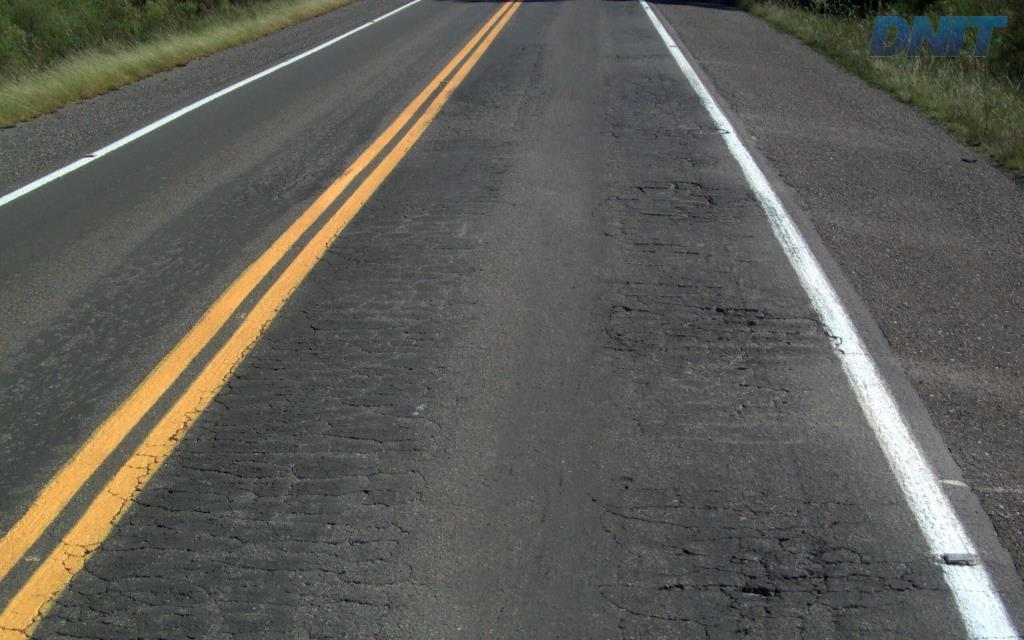crack: (691, 534, 871, 621), (178, 454, 265, 478)
